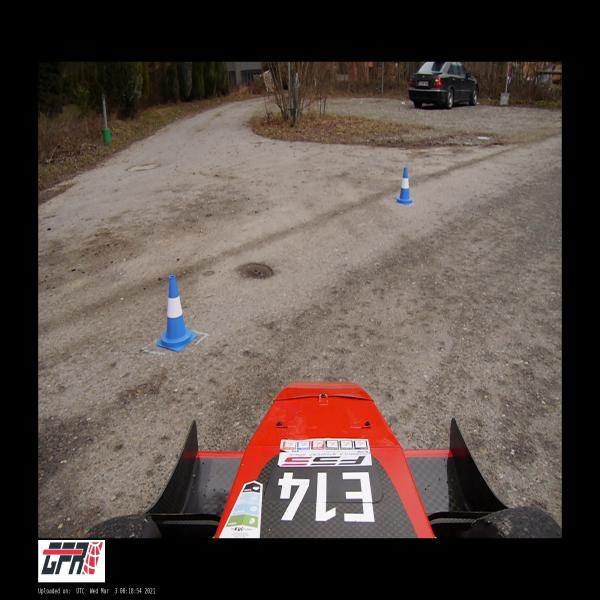blue_cone: (157, 275, 197, 351), (394, 168, 414, 204)
